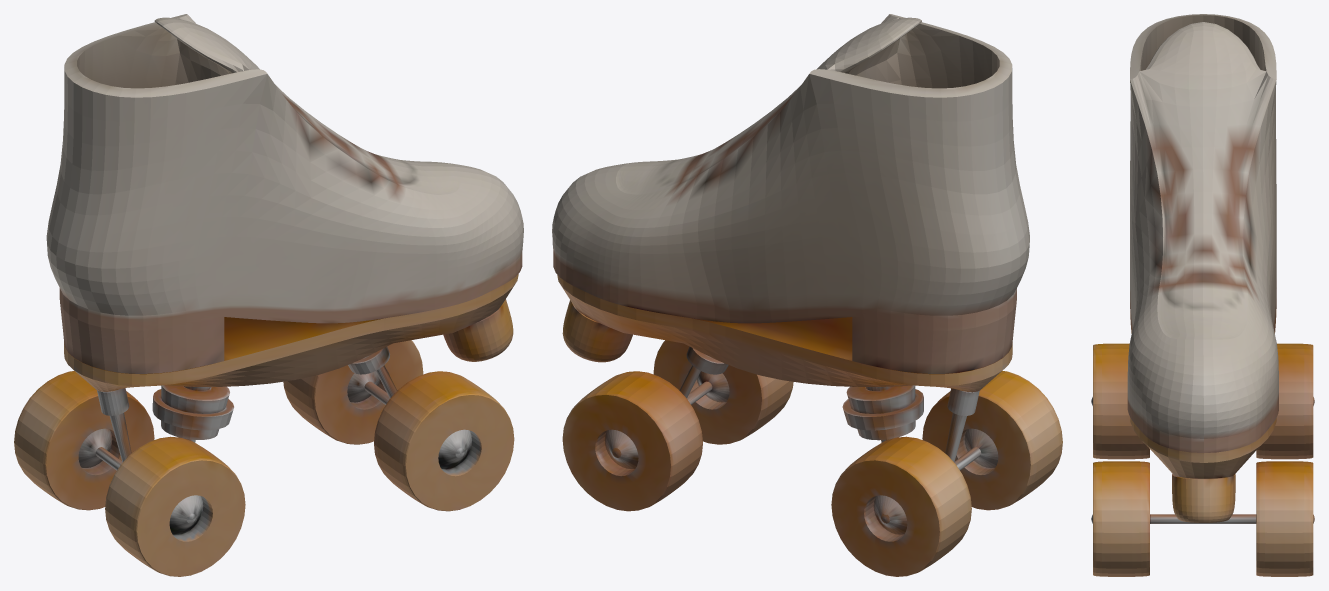
Rendered from roller-skates.glb.
3 views of the same model, side by side, from view 1: azimuth 30°, elevation 25°; view 2: azimuth 150°, elevation 25°; view 3: azimuth 270°, elevation 25° (orthographic). The views are drawn at different scales.
Visible parts, largest first — view 1: boot, wheel2, wheel0; view 2: boot, wheel1, wheel3; view 3: boot, wheel0, wheel1.
Part boxes in pixels (x1,y1,x2,y2): boot: (14,14,523,576); wheel2: (172,391,233,439); wheel0: (453,294,513,361); boot: (552,14,1062,576); wheel1: (562,292,623,362); wheel3: (842,392,904,440); boot: (1091,14,1314,576); wheel0: (1166,457,1187,521); wheel1: (1219,462,1241,521).
Size of the model in its own units: 18.23 by 18.88 by 8.54.
